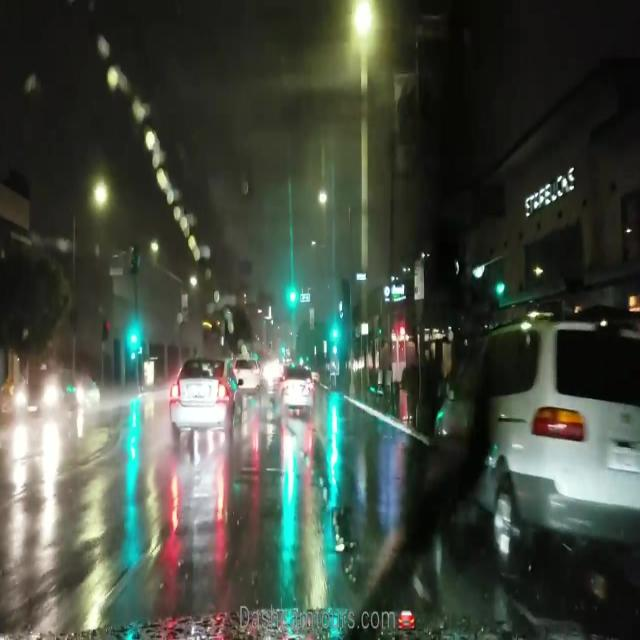Car: (429, 311, 639, 580), (169, 361, 236, 439), (275, 363, 312, 417), (234, 352, 263, 395)
